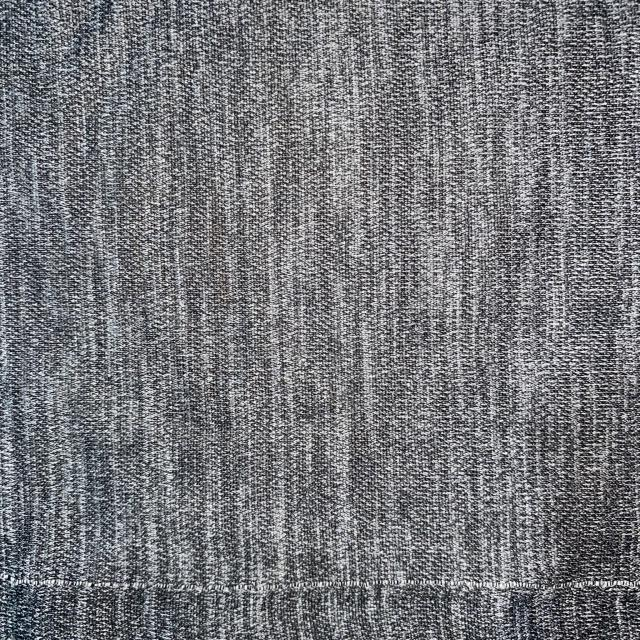Line: (0, 568, 640, 593)
